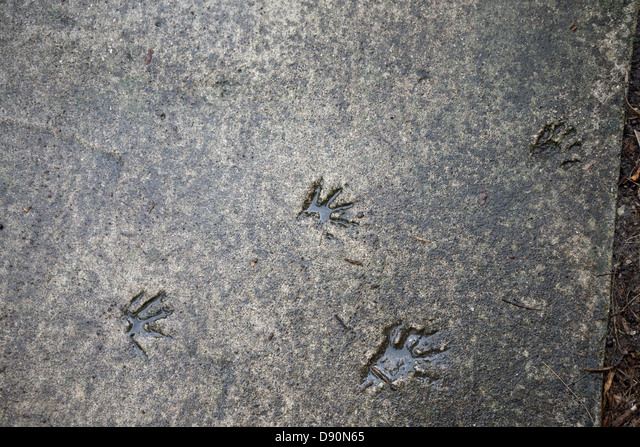raccoon: (360, 312, 459, 399), (508, 111, 606, 177), (108, 284, 185, 366), (294, 175, 363, 238)
